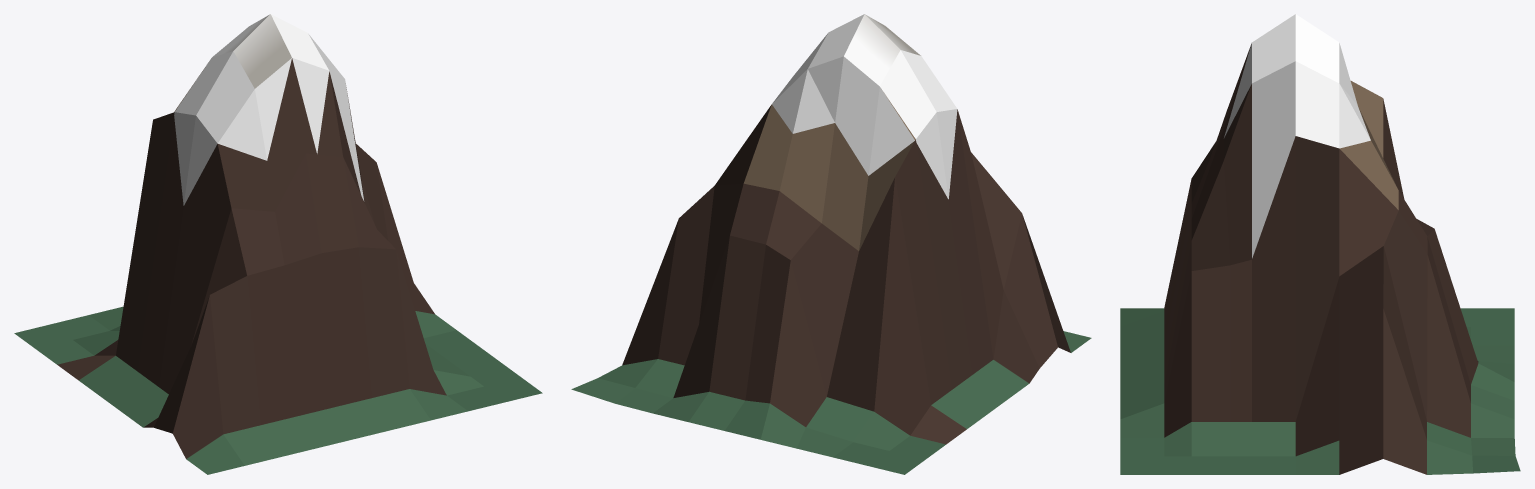
The model's file is Mountain_01.fbx.
The picture shows the model from 3 angles, left to right: view 1: azimuth 30°, elevation 25°; view 2: azimuth 150°, elevation 25°; view 3: azimuth 270°, elevation 25°; orthographic projection. The views are drawn at different scales.
Visible parts, largest first — view 1: Mountain_01; view 2: Mountain_01; view 3: Mountain_01.
Boxes of the visible parts, box(x1,y1,x2,y2) form: Mountain_01: box(14, 14, 542, 474); Mountain_01: box(571, 14, 1091, 474); Mountain_01: box(1120, 14, 1520, 474).
Size of the model in its own units: 13518 by 13652 by 13444.
